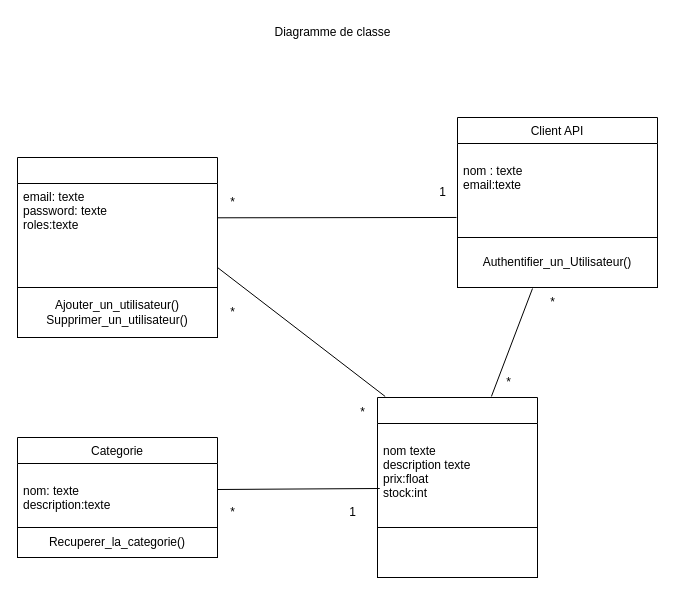
The diagram is 675 pixels wide and 595 high, and some of its shapes have lost their labels. The shapes that lost their labels are listed below. From the top down, each one's box as (x1, y1, x2, y2) in pixels, then its label:
(16, 156, 218, 288): Utilisateur
(376, 396, 538, 528): Produit
(376, 526, 538, 578): Recuperer_les_Produits() DétailsDunProduit()
